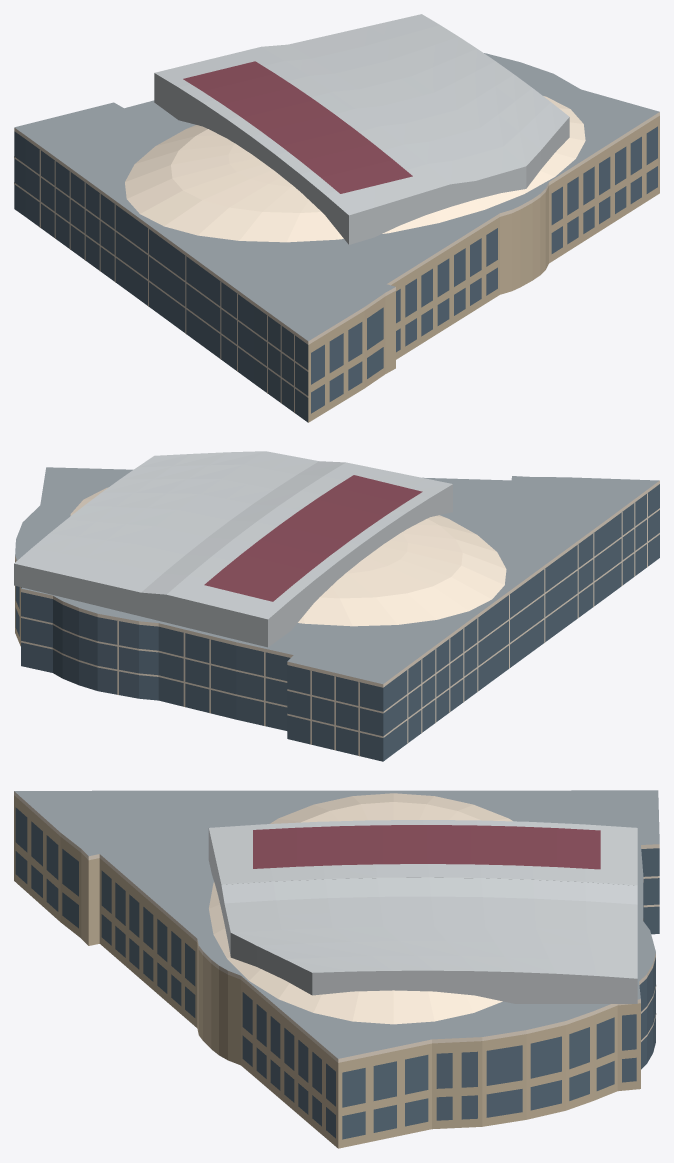
The model's file is cle-rocket-arena.glb.
3 renders of one model, top to bottom at view 1: azimuth 30°, elevation 25°; view 2: azimuth 150°, elevation 25°; view 3: azimuth 270°, elevation 25°, orthographic. The views are drawn at different scales.
Visible parts, largest first — view 1: Rocket Arena; view 2: Rocket Arena; view 3: Rocket Arena.
Part boxes in pixels (bbox=[...]): Rocket Arena: bbox=[14, 14, 659, 422]; Rocket Arena: bbox=[14, 451, 659, 761]; Rocket Arena: bbox=[14, 790, 659, 1148].
Bounding box in the file's own units: 172 × 39.25 × 175.
